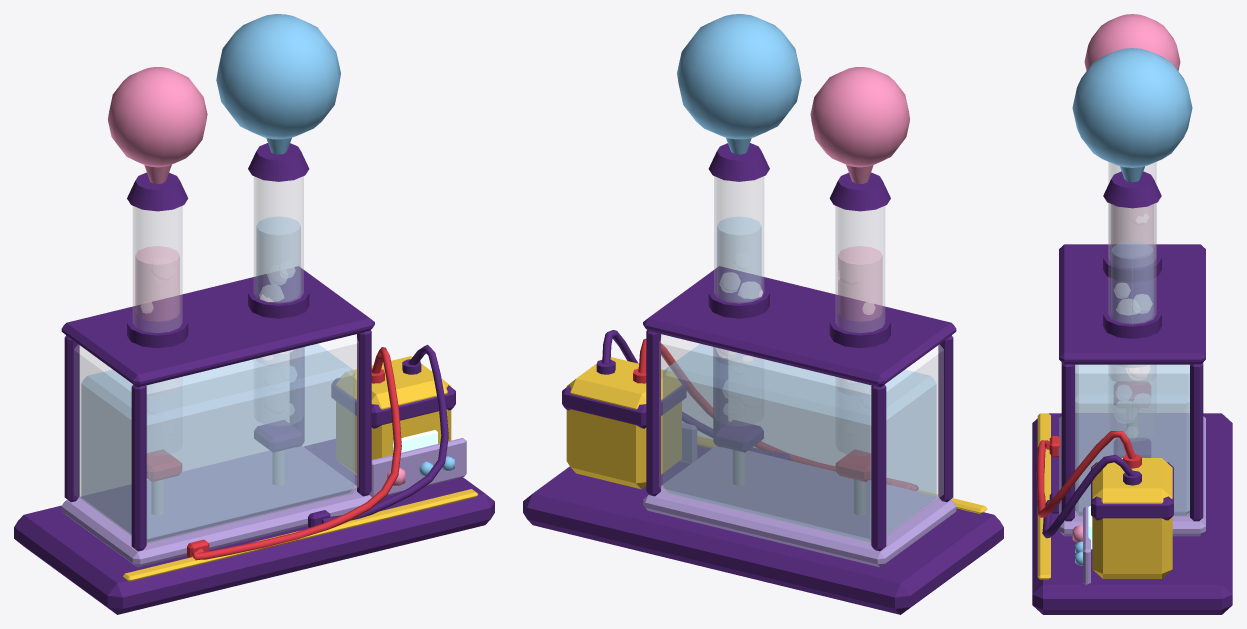
Rendered from Electrolysis_Water_Tank.glb.
3 views of the same model, side by side, from view 1: azimuth 30°, elevation 25°; view 2: azimuth 150°, elevation 25°; view 3: azimuth 270°, elevation 25° (orthographic). The views are drawn at different scales.
Visible parts, largest first — view 1: Electrolysis_Water_Tank; view 2: Electrolysis_Water_Tank; view 3: Electrolysis_Water_Tank.
Boxes of the visible parts, x1,y1,x2,y2 form: Electrolysis_Water_Tank: [14, 14, 494, 614]; Electrolysis_Water_Tank: [523, 14, 1003, 614]; Electrolysis_Water_Tank: [1032, 14, 1232, 614].
Bounding box in the file's own units: 3.2 × 4.03 × 1.5.
